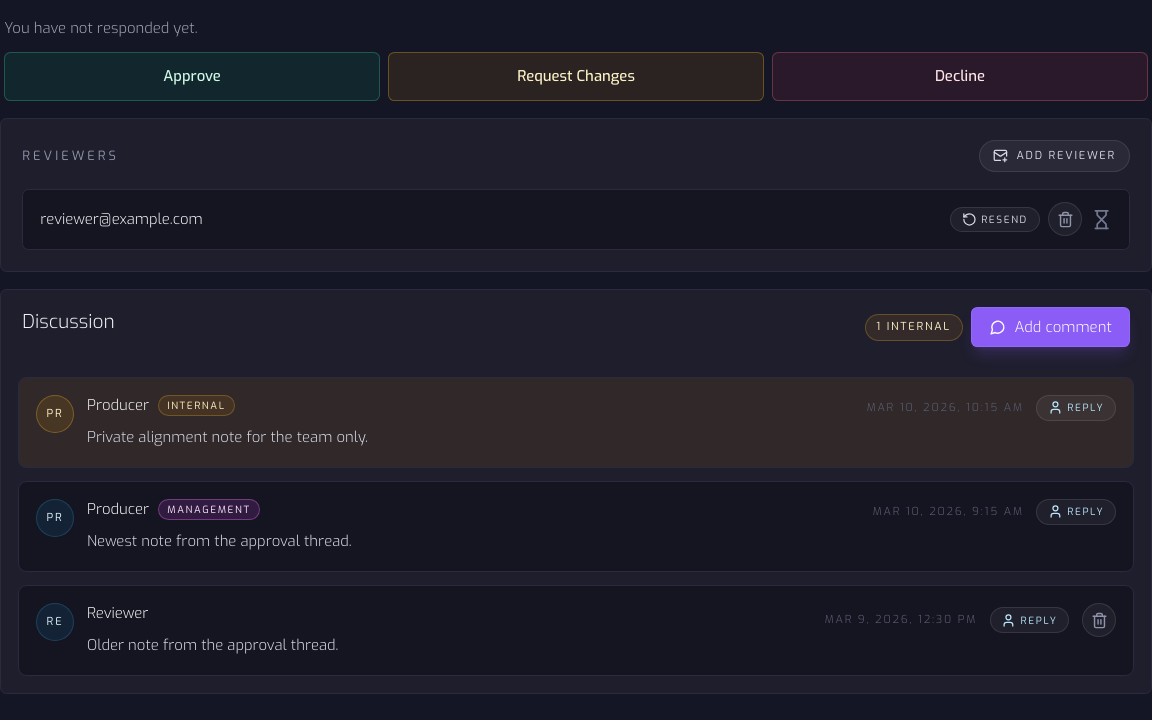
ApprovalDetailView › deletes a message authored by the current user
(page scrolled)
Click the button named "Delete message from Reviewer" at (1099, 620), box top-left (1082, 603), bottom-right (1116, 637)
(page scrolled)
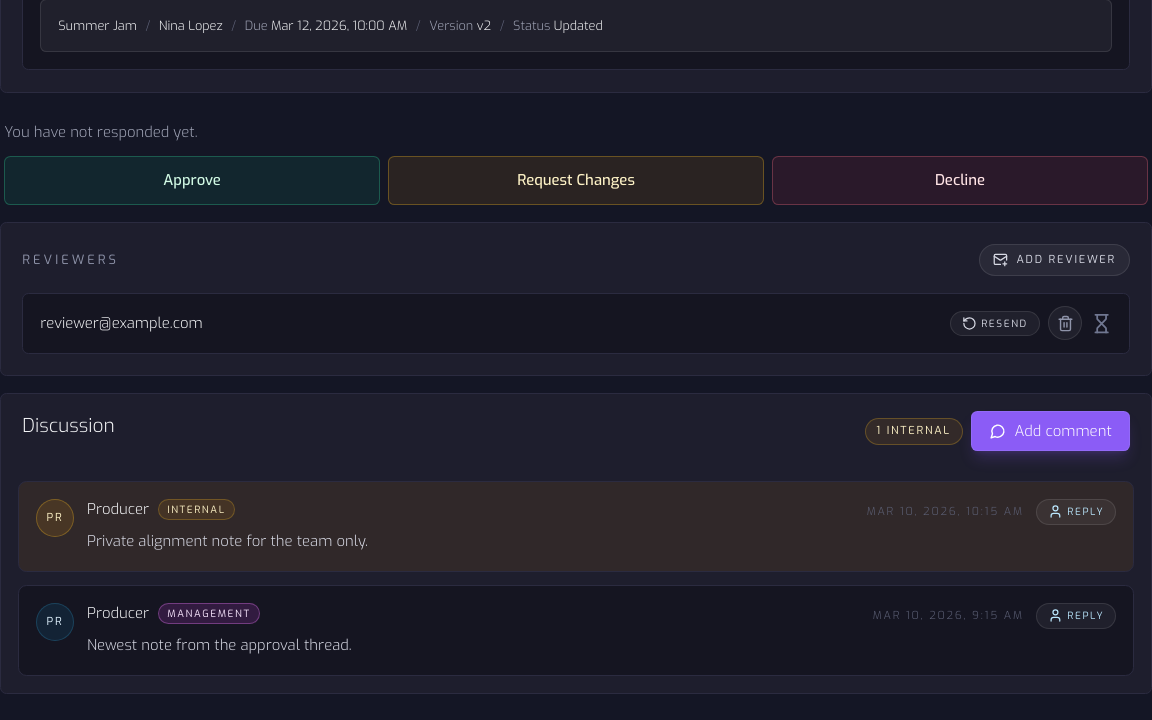
Expected: the text "Older note from the approval thread." is gone
